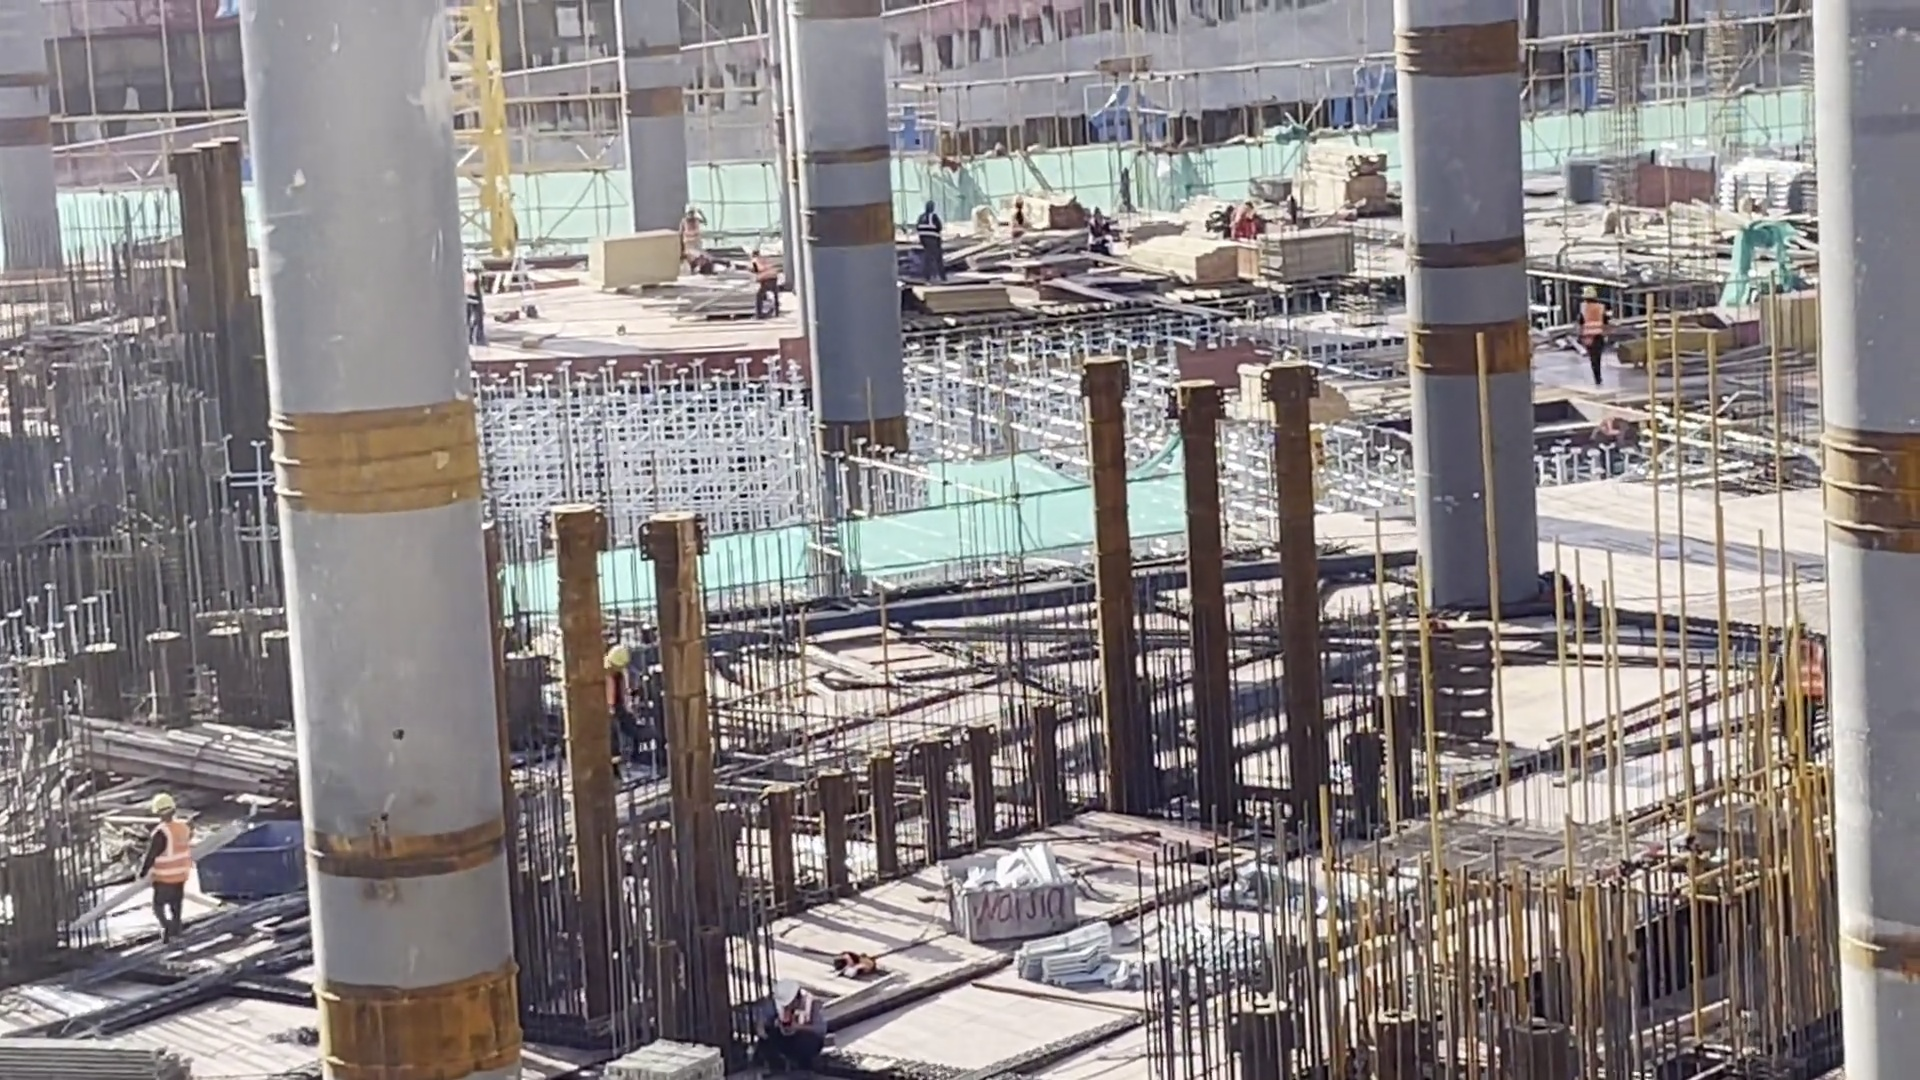helmet: (771, 978, 800, 1009), (611, 645, 632, 672), (461, 256, 489, 273), (681, 201, 700, 216), (1582, 285, 1598, 304), (920, 199, 938, 213), (1012, 193, 1024, 205), (749, 241, 760, 254)
person: (130, 785, 212, 943), (759, 967, 837, 1072), (591, 641, 655, 763), (1570, 276, 1622, 374), (1200, 186, 1276, 245), (669, 191, 723, 268), (907, 197, 951, 280), (744, 227, 781, 324), (460, 256, 493, 352), (1002, 192, 1038, 259), (1105, 160, 1137, 215), (1081, 202, 1115, 248)
vest: (600, 667, 635, 716), (1577, 300, 1606, 347), (749, 259, 781, 287), (460, 269, 480, 303), (916, 212, 938, 241), (683, 216, 700, 250), (1006, 210, 1028, 235)
